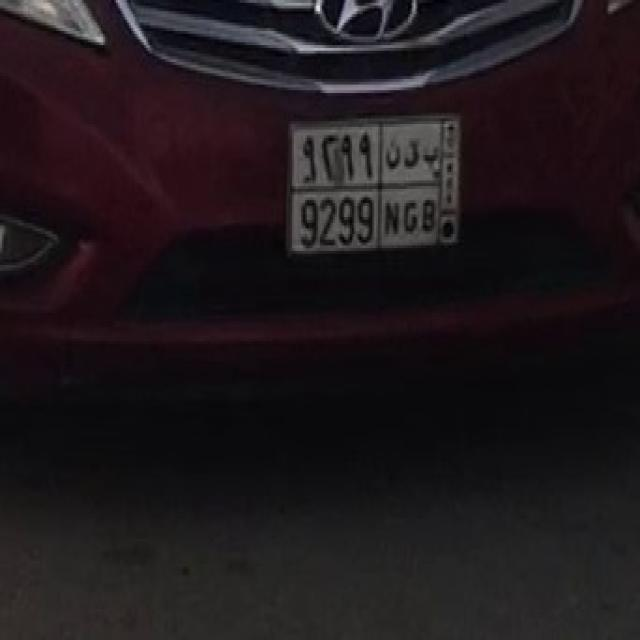Car-plate: (278, 106, 481, 260)
